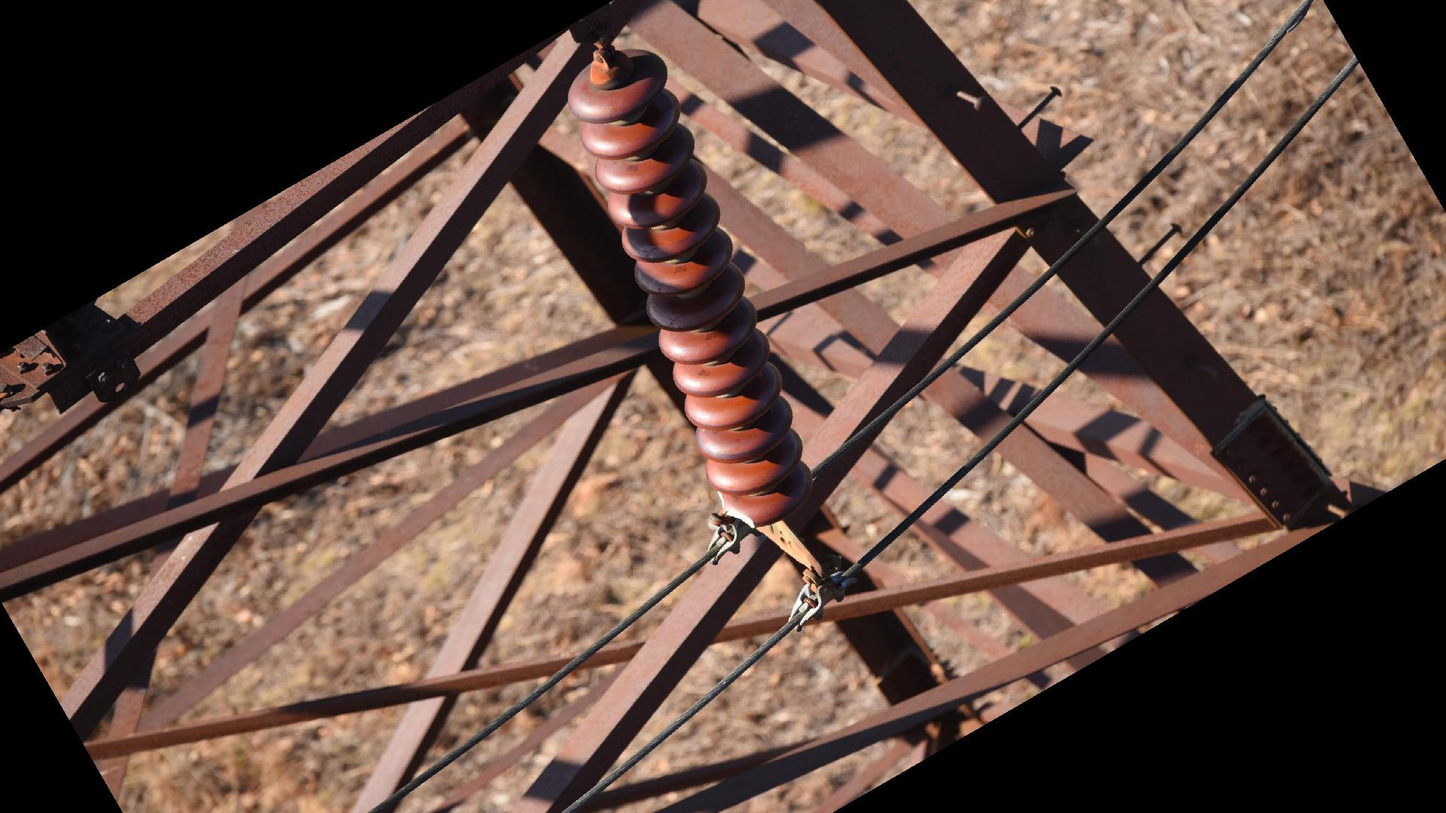insulator: (563, 44, 820, 534)
insulator_breakage: (712, 488, 761, 532)
